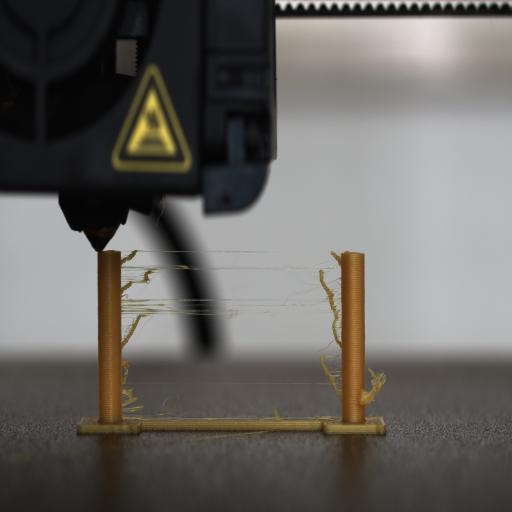stringing: (122, 244, 345, 324), (357, 367, 395, 414), (314, 351, 344, 407), (121, 373, 150, 419)
